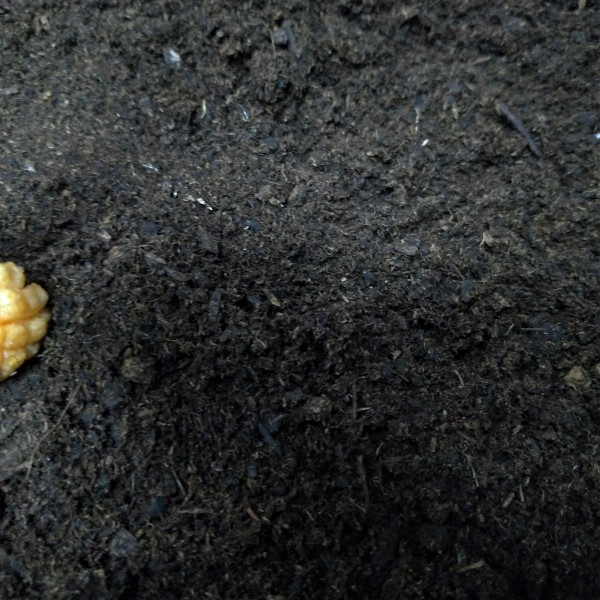eggs: (1, 250, 56, 393)
